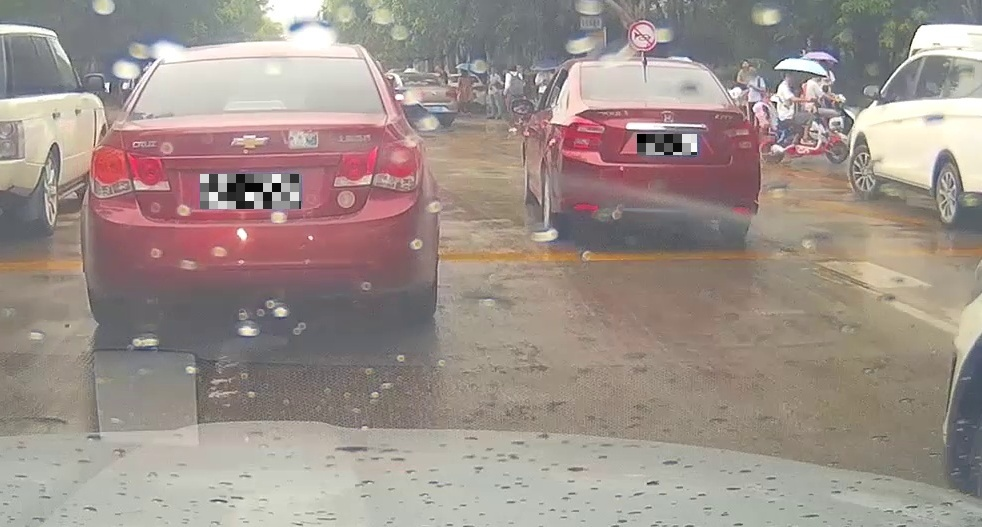L_light: (87, 144, 171, 198), (560, 116, 605, 152)
R_light: (331, 139, 424, 190), (722, 120, 757, 151)
T_light: (222, 99, 287, 111), (645, 96, 680, 103)
day-no: (78, 40, 439, 326), (557, 57, 760, 241)
plate_1: (200, 174, 301, 209)
plate_2: (637, 134, 697, 155)
